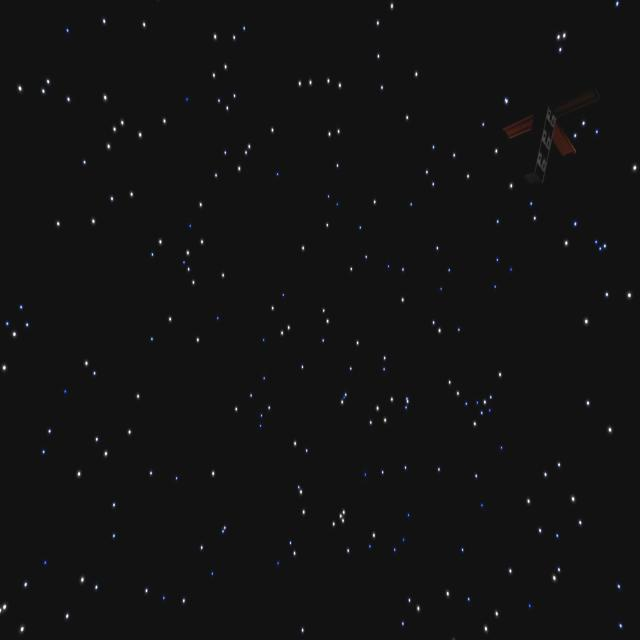medium_debris: (498, 102, 578, 184)
